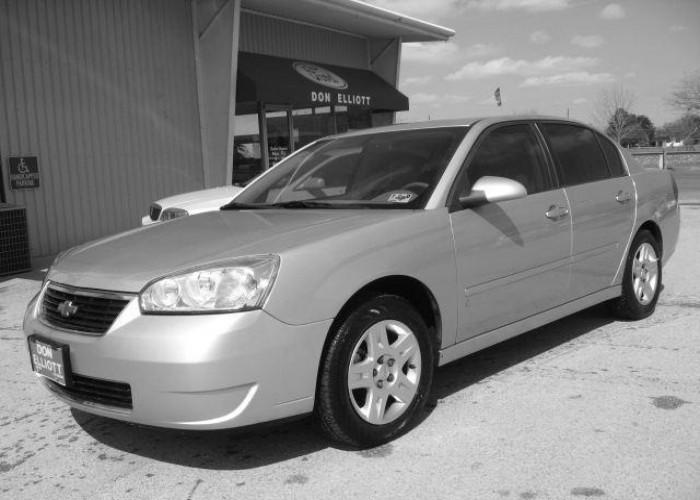car: (17, 100, 692, 467)
